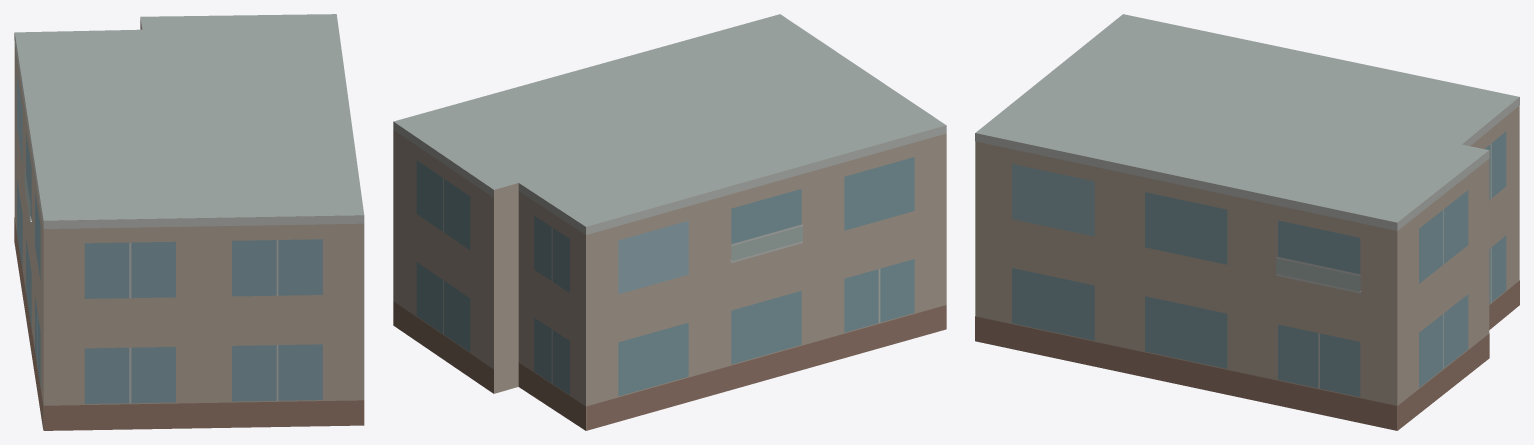
The model's file is survey-upis-32543900.glb.
The picture shows the model from 3 angles, left to right: view 1: azimuth 30°, elevation 25°; view 2: azimuth 150°, elevation 25°; view 3: azimuth 270°, elevation 25°; orthographic projection. The views are drawn at different scales.
Visible parts, largest first — view 1: survey-upis-32543900.tmp; view 2: survey-upis-32543900.tmp; view 3: survey-upis-32543900.tmp.
Boxes of the visible parts, box(x1,y1,x2,y2) form: survey-upis-32543900.tmp: box(14, 14, 364, 430); survey-upis-32543900.tmp: box(393, 14, 946, 430); survey-upis-32543900.tmp: box(975, 14, 1519, 430).
Size of the model in its own units: 13.12 by 6.1 by 14.47.
